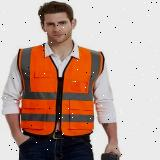Vest: (17, 42, 106, 137)
